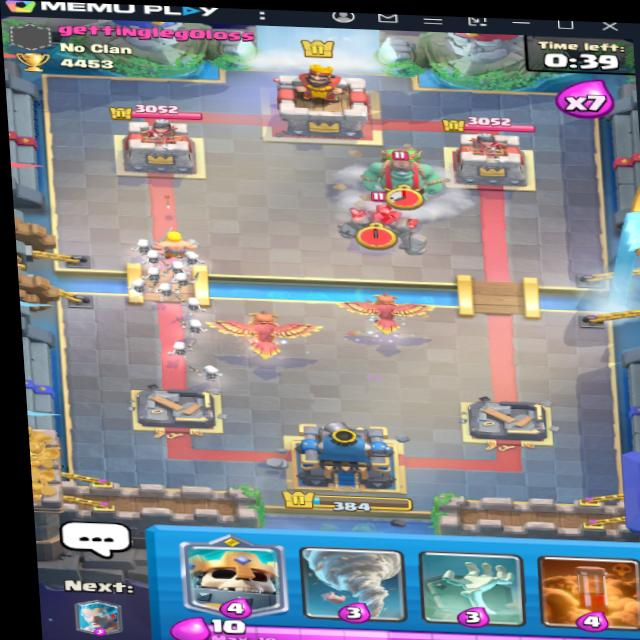goblin-giant: (363, 143, 441, 198)
golem: (334, 193, 435, 261)
